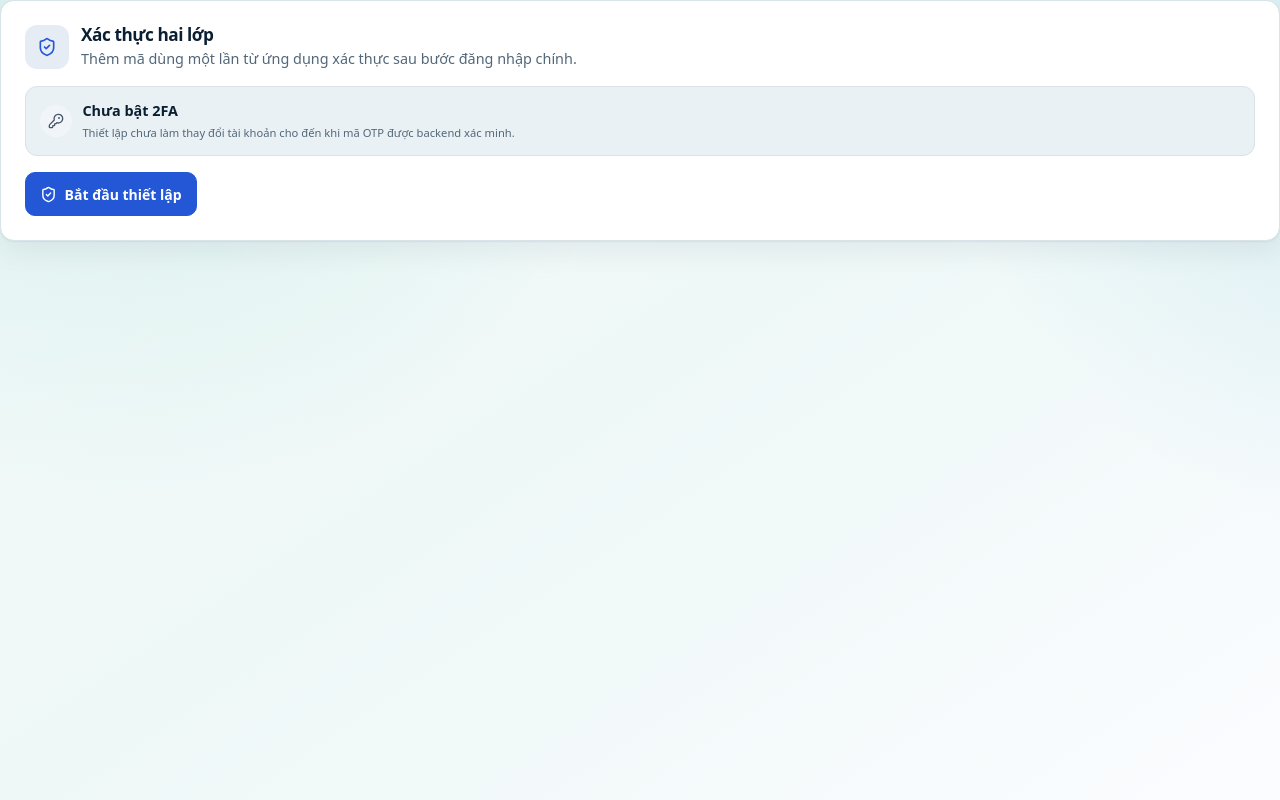
TwoFactorPanel › reuses the exact verification key after an ambiguous response and never reports early success
Click the button "Bắt đầu thiết lập" at coordinates (111, 194), box [25, 172, 197, 216]
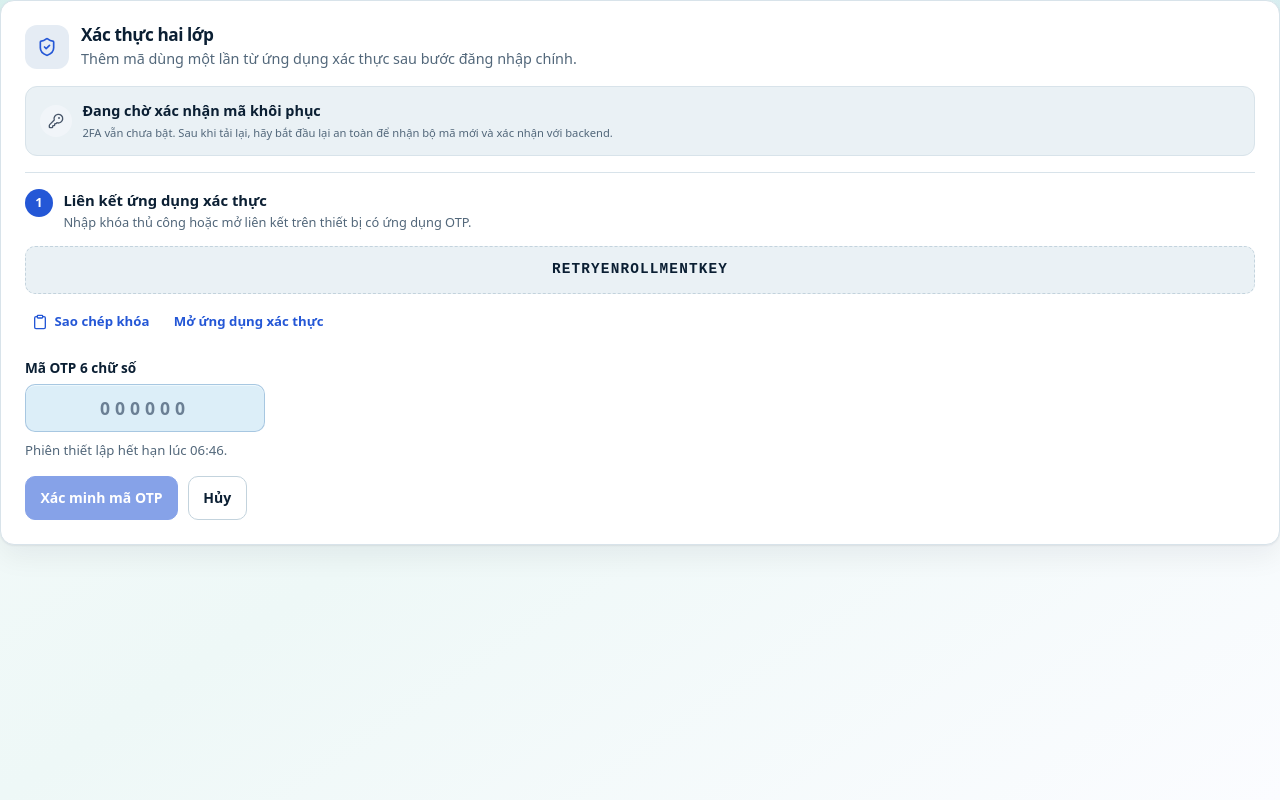
Type "123456" into the field labelled "Mã OTP 6 chữ số" at coordinates (145, 408), box [25, 384, 265, 432]
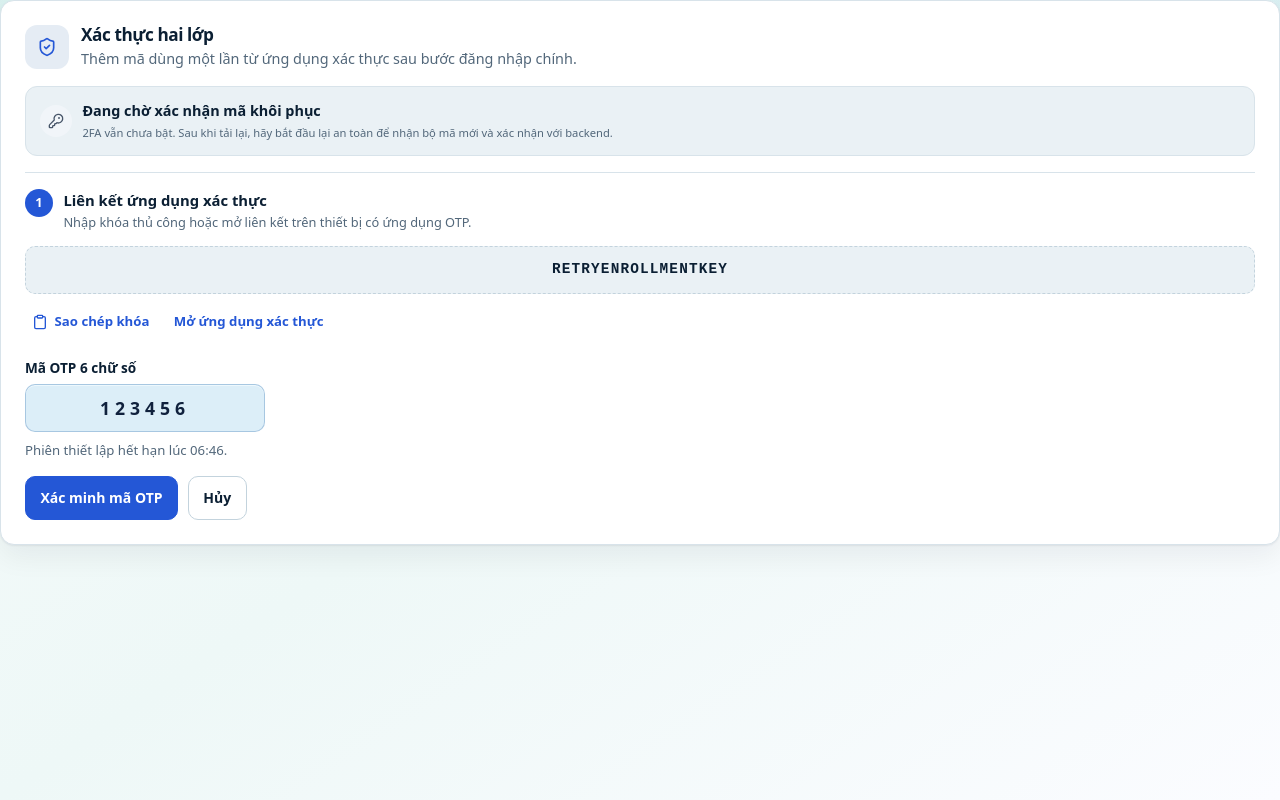
Click the button "Xác minh mã OTP" at coordinates (101, 498), box [25, 476, 178, 520]
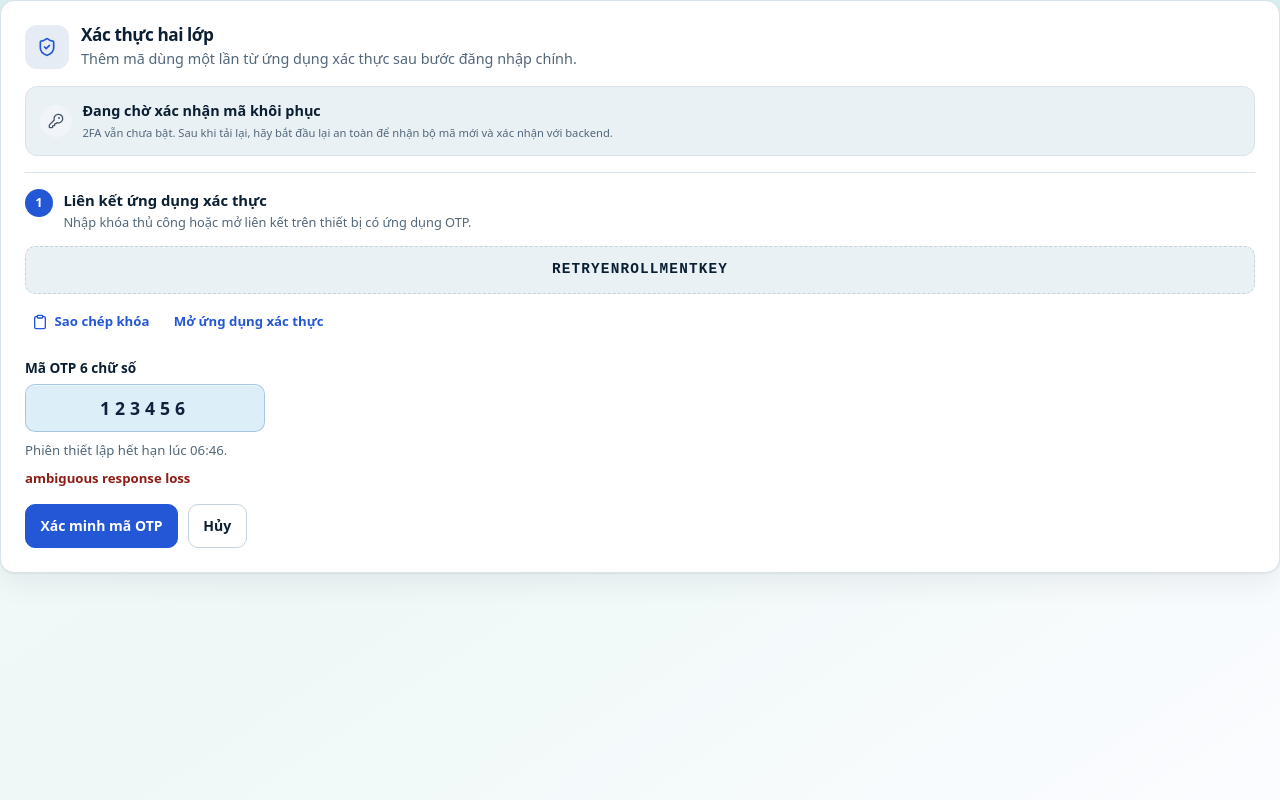
expect the text "ambiguous response loss" is shown: met, box [25, 469, 190, 487]
Click the button "Xác minh mã OTP" at coordinates (101, 526), box [25, 504, 178, 548]
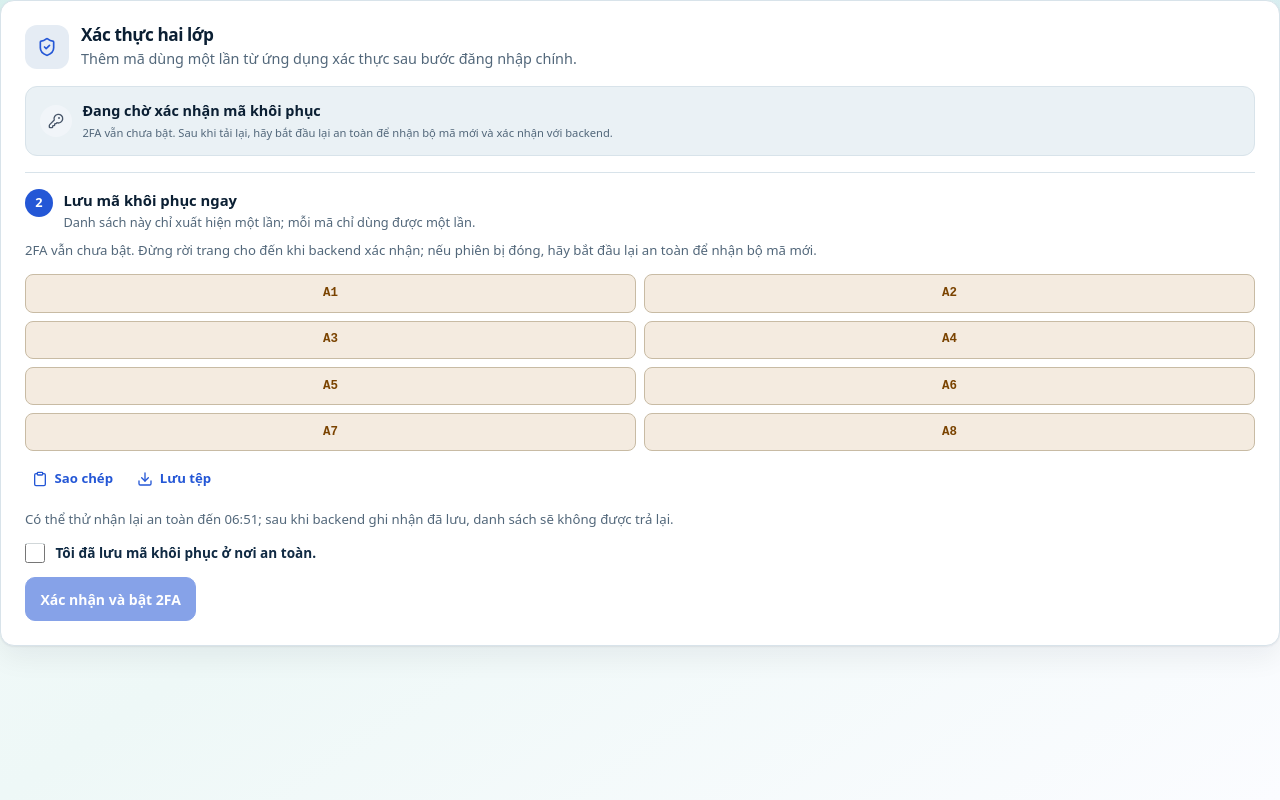
expect the text "Lưu mã khôi phục ngay" is shown: met, box [63, 190, 237, 210]
